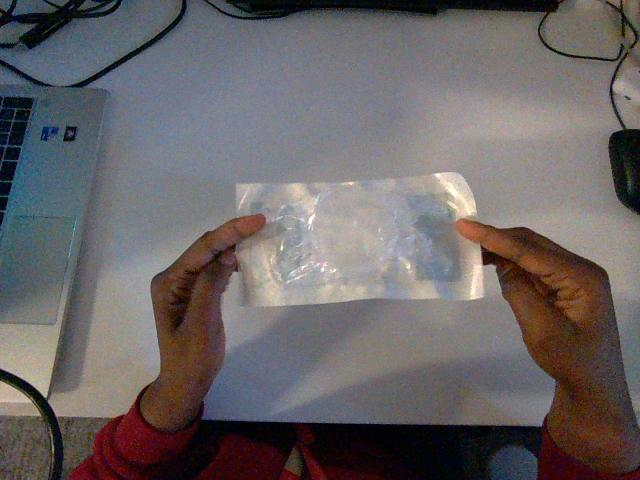gallipot: (236, 173, 483, 305)
